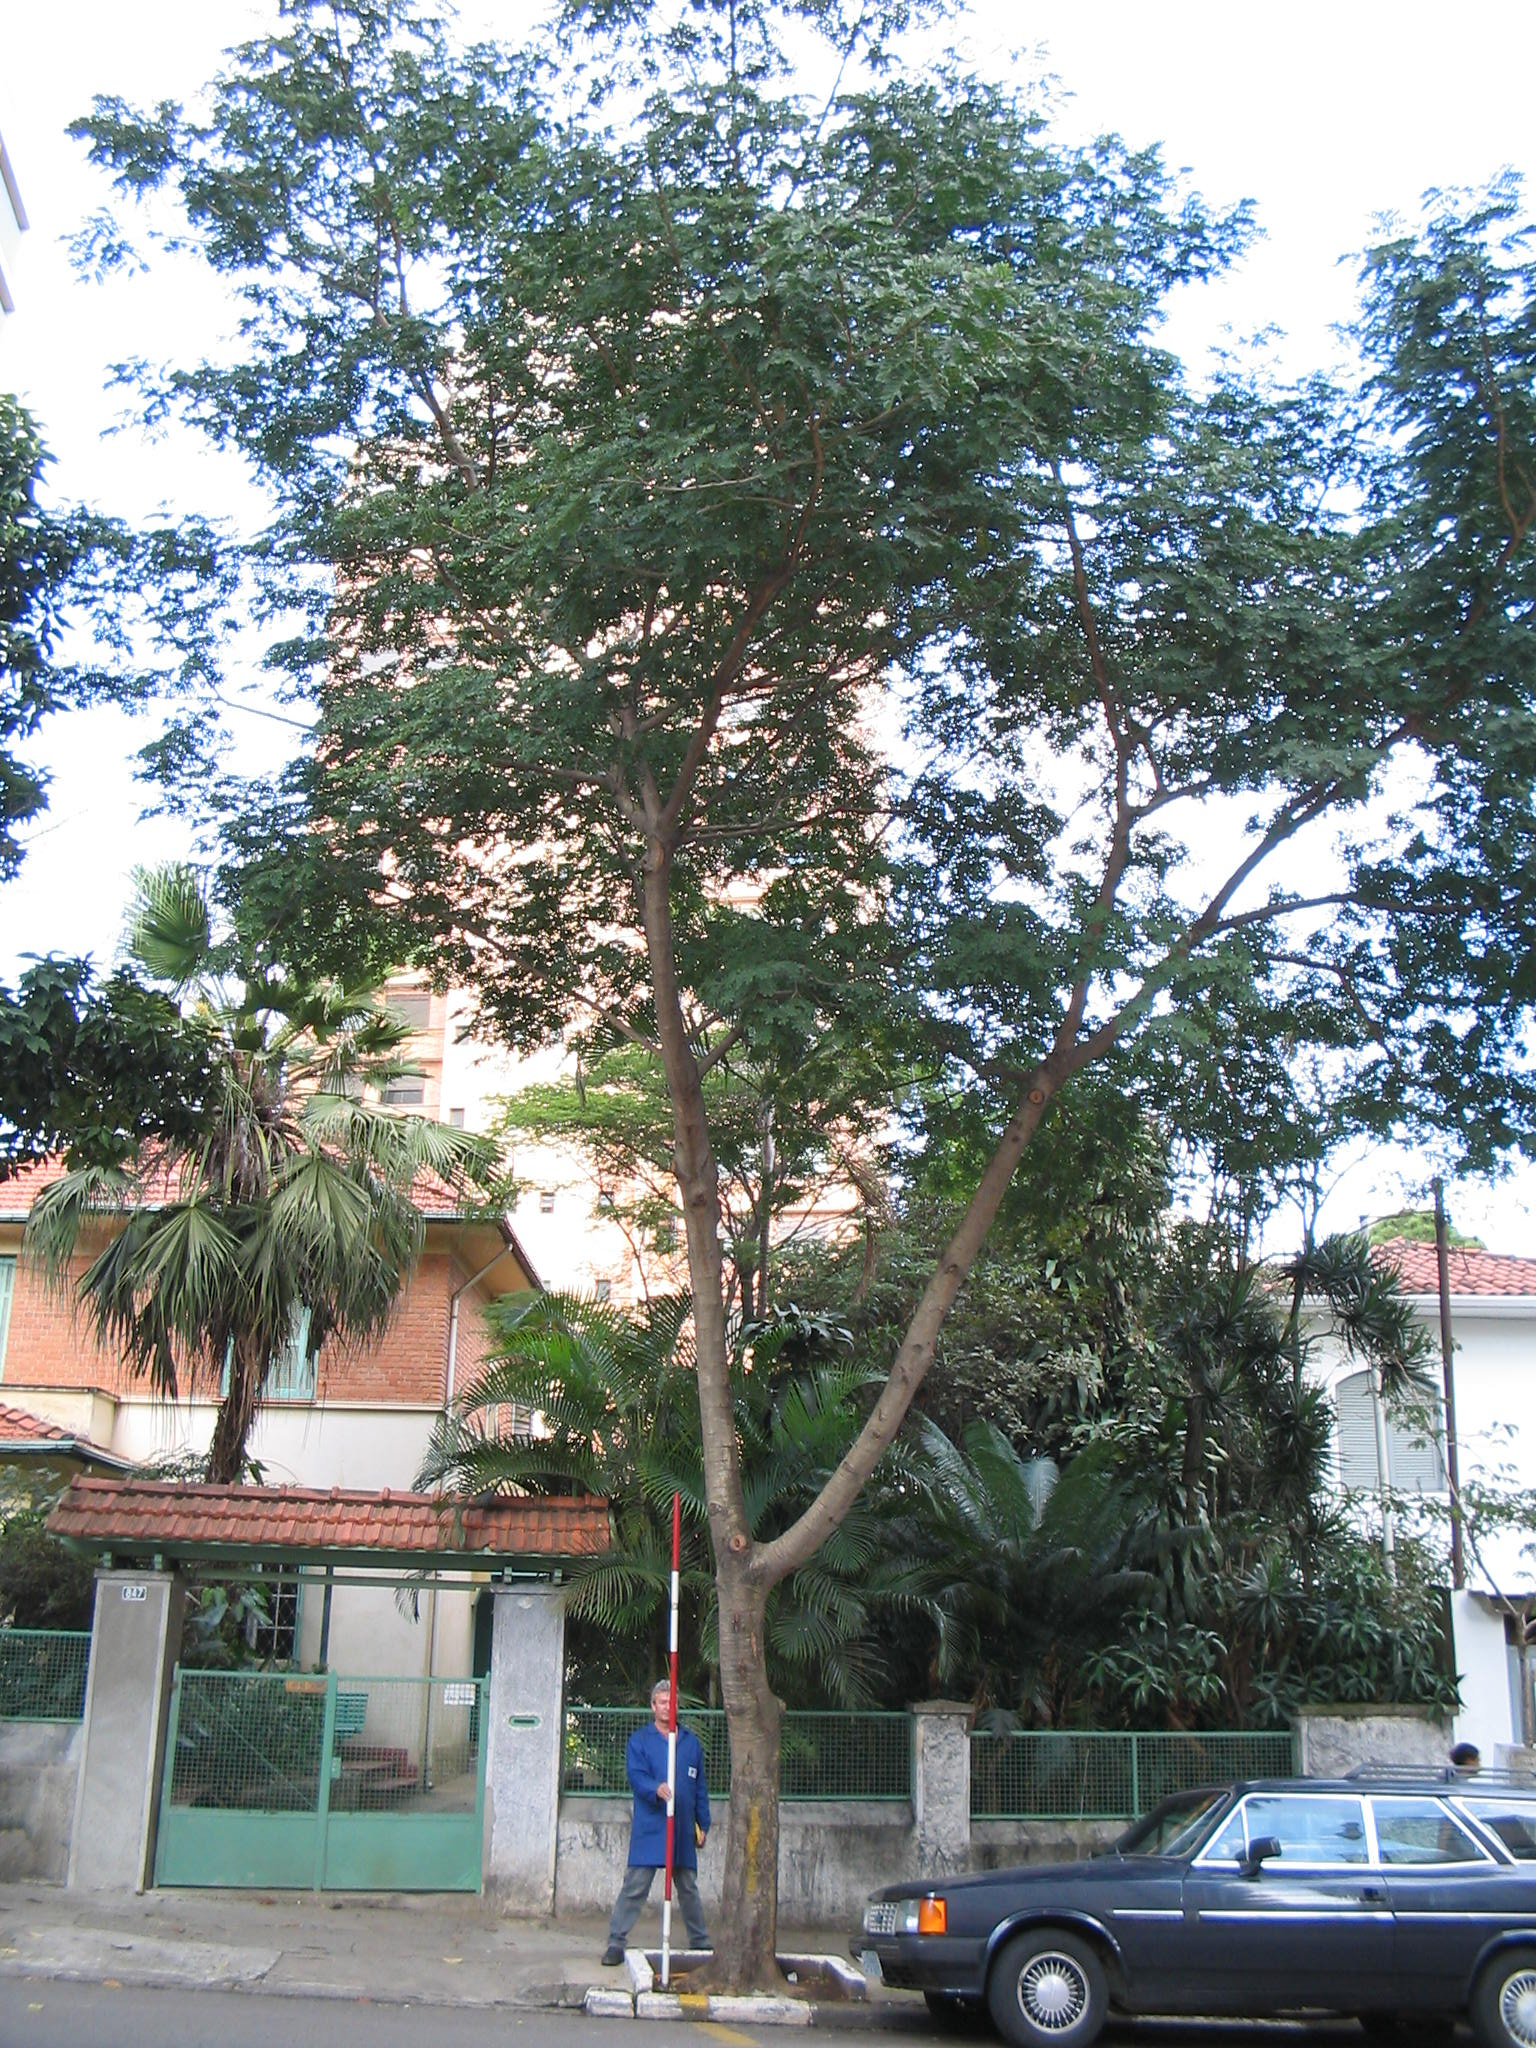crown: (328, 58, 1421, 1061)
stem: (699, 1576, 815, 1996)
stick: (628, 1490, 700, 1990)
tree: (319, 55, 1426, 1995)
